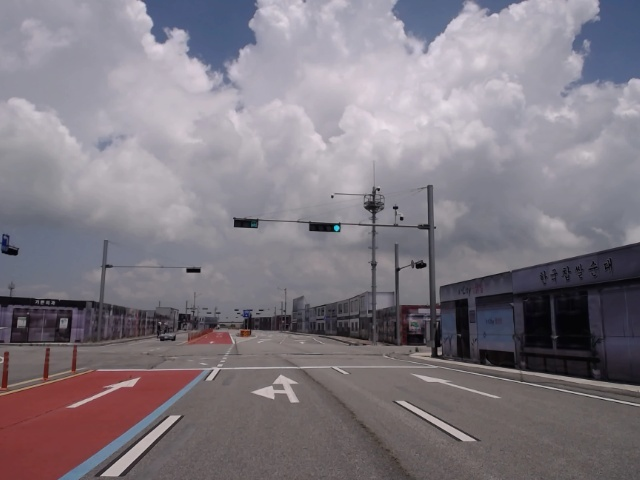straight_green_4: (310, 222, 341, 234)
